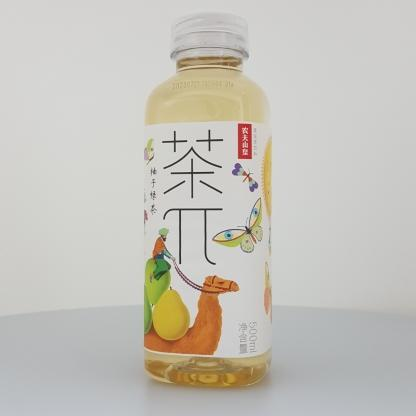------------: (144, 11, 272, 387)
